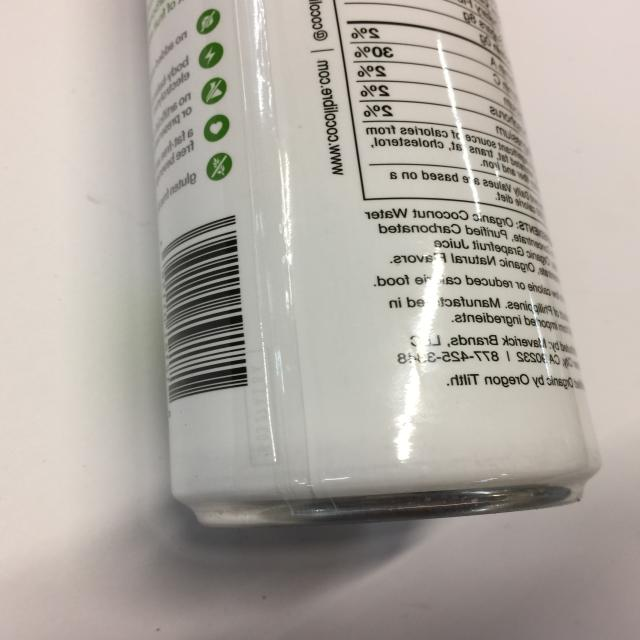plastic: (144, 0, 603, 529)
